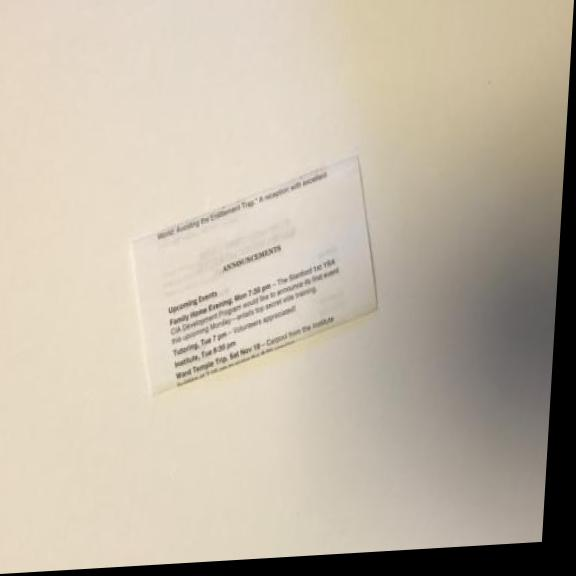Kertas: (121, 148, 396, 410)
